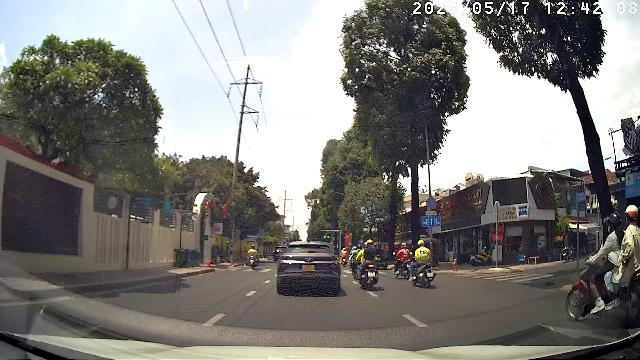131a-cam-do-xe: (426, 197, 437, 209)
